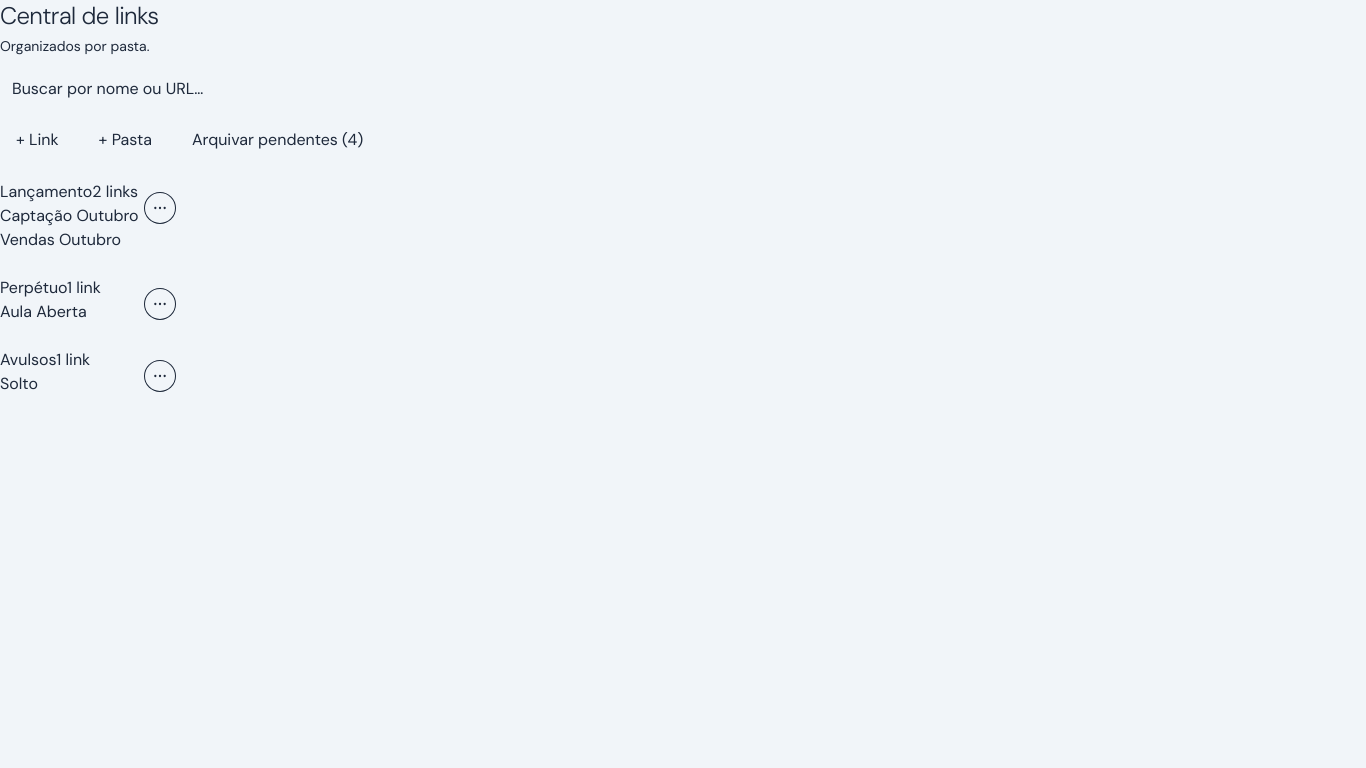
Central de links: fila Arquivar pendentes › Parar interrompe a fila depois do item atual
Expected: the element named "Pastas" is shown, [0,180,176,396]
Click the button "Arquivar pendentes (4)".
click(278, 140)  # box [176,120,379,160]
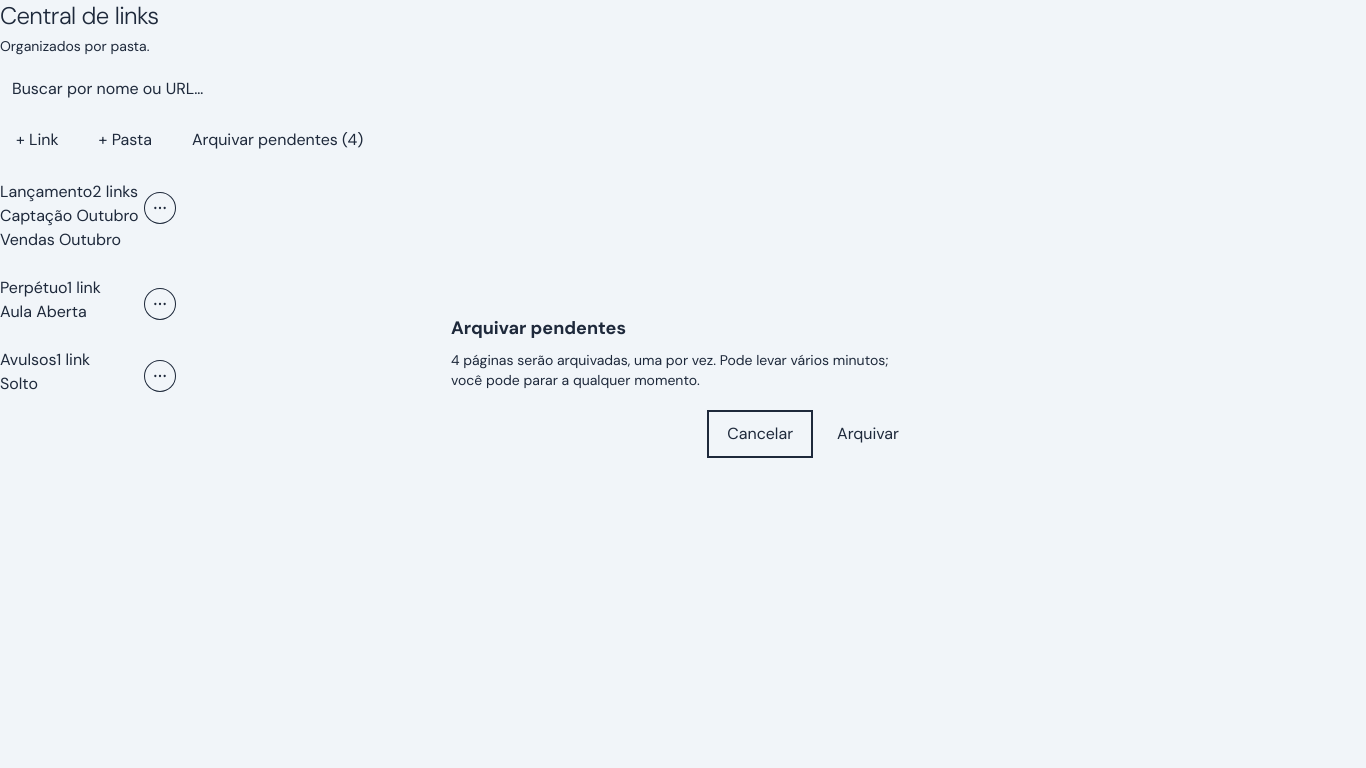
Click the button "Arquivar".
click(868, 434)  # box [821,414,915,454]
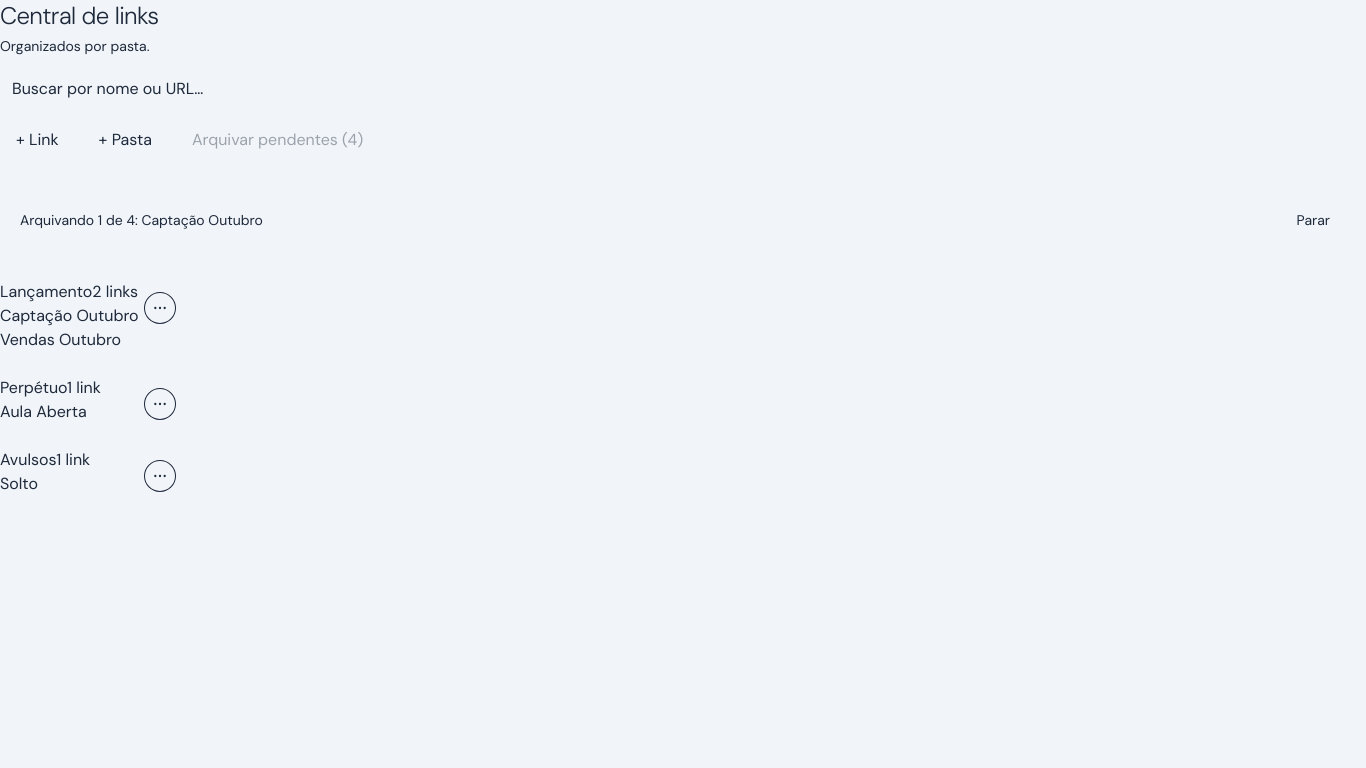
Click the button "Parar".
click(1313, 220)  # box [1281,200,1346,240]
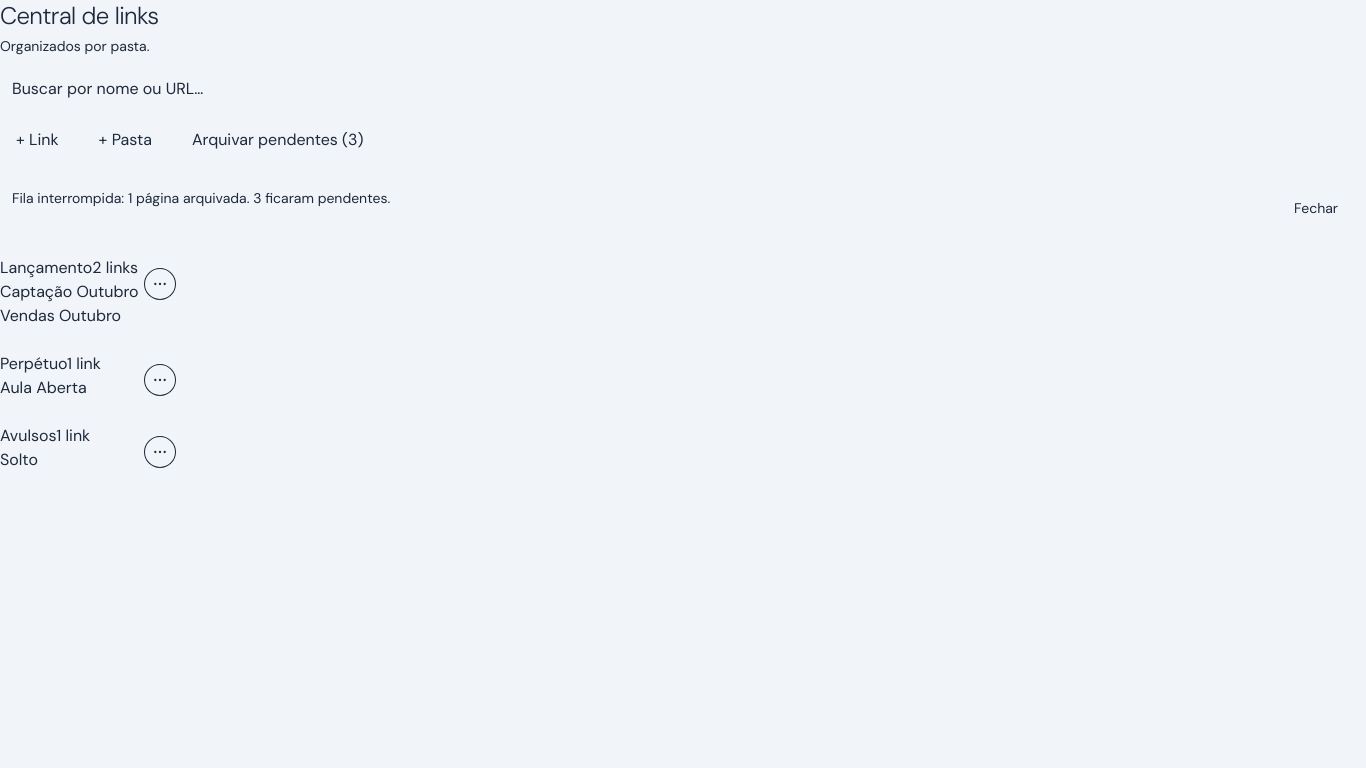
Expected: the message with test id "resumo-fila" shows "interrompida", [12,189,390,207]
Expected: the message with test id "resumo-fila" shows "1 página arquivada", [12,189,390,207]
